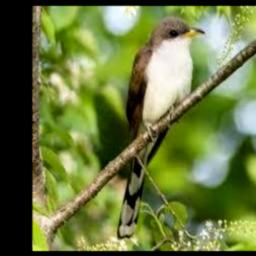Cuckoo: (117, 17, 205, 239)
